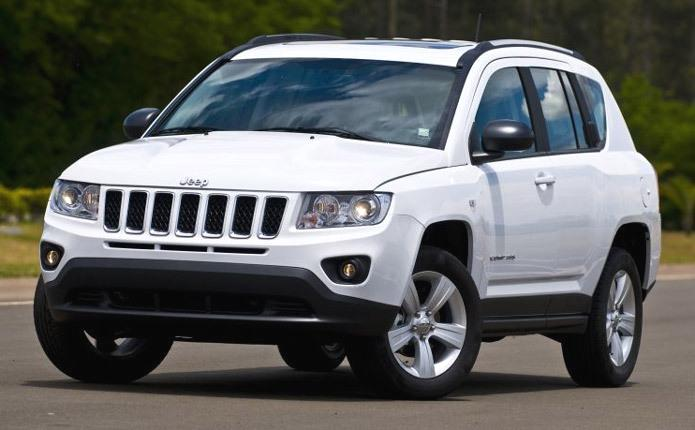jeep: (169, 171, 224, 197)
